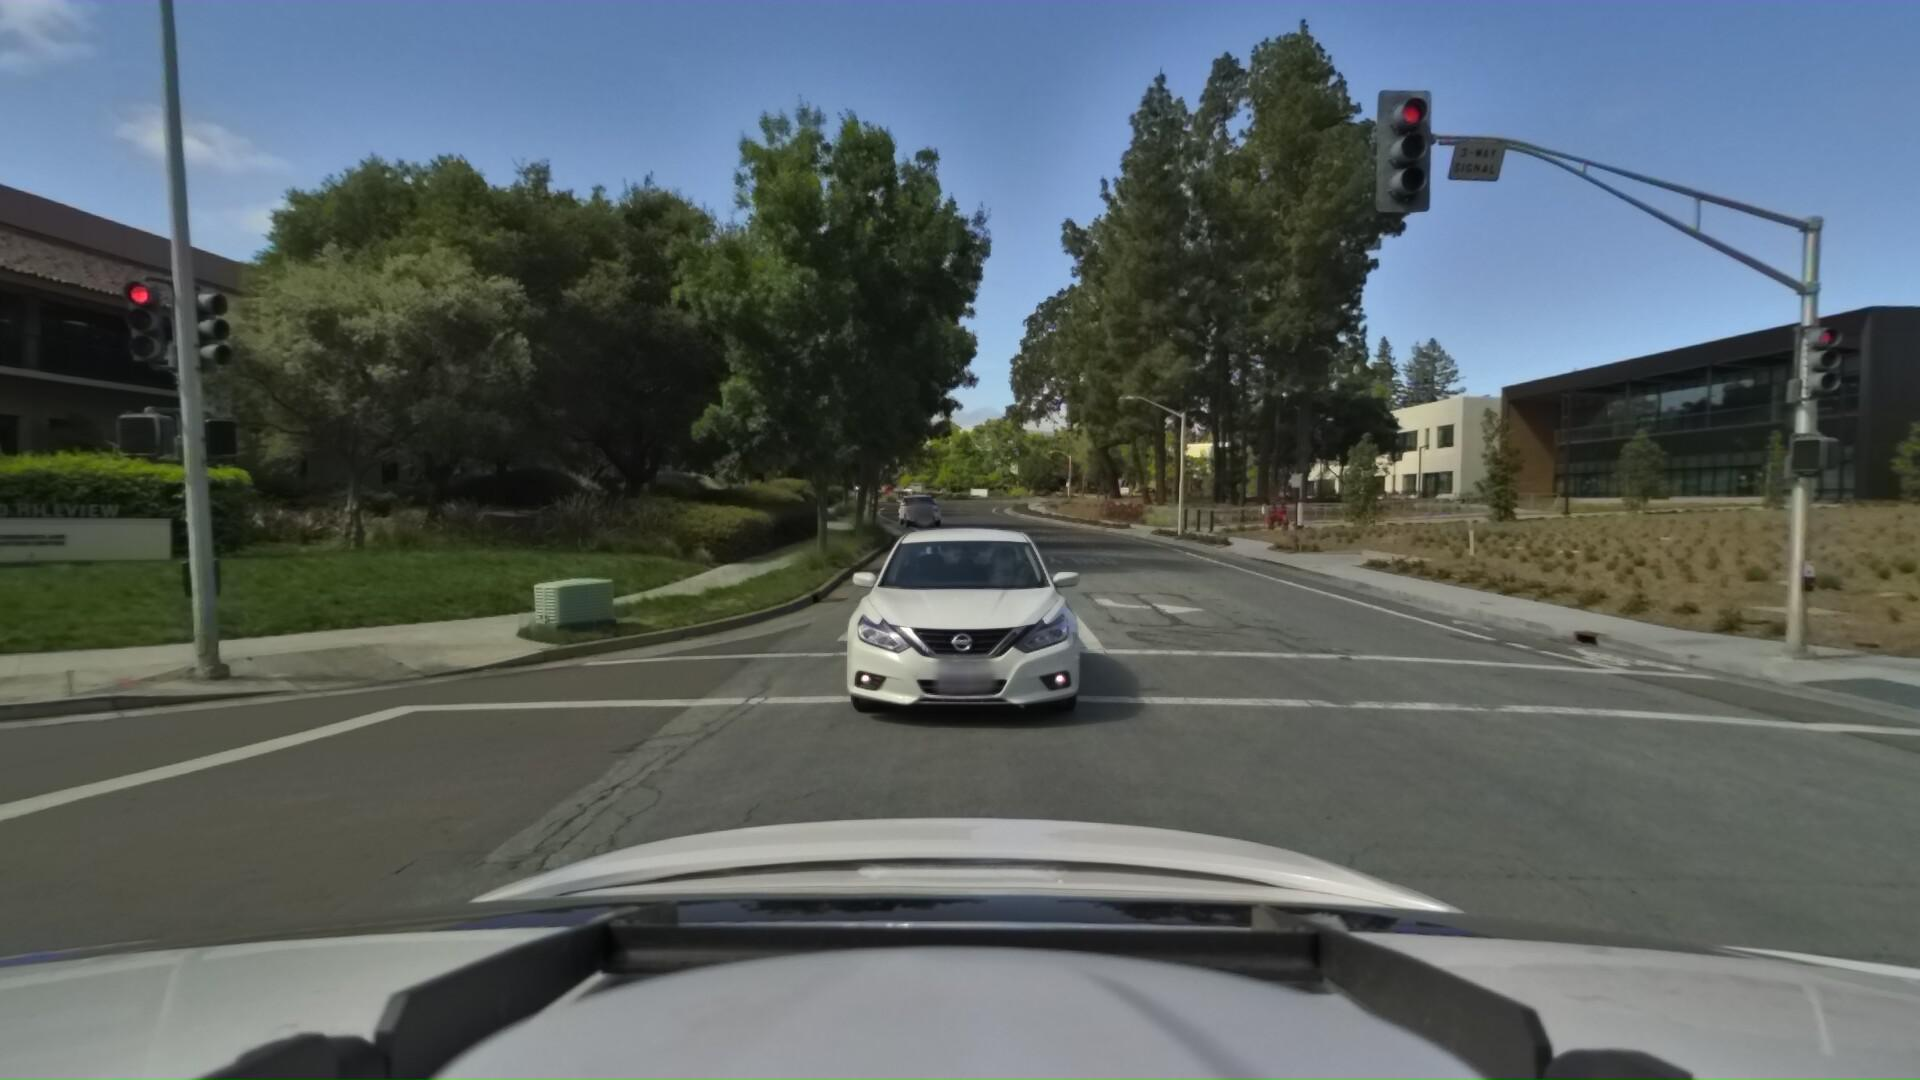car: (818, 502, 1093, 741), (891, 491, 942, 529)
